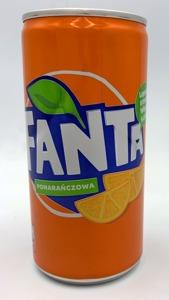metal: (22, 10, 147, 284)
